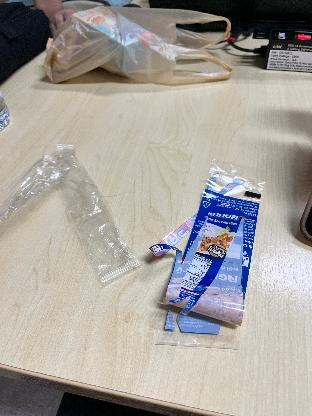Others: (152, 160, 274, 350), (56, 135, 140, 288), (0, 142, 62, 238)
